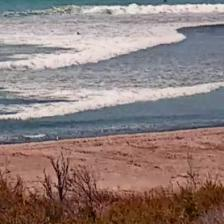surfer: (76, 32, 82, 36), (163, 0, 168, 4)
